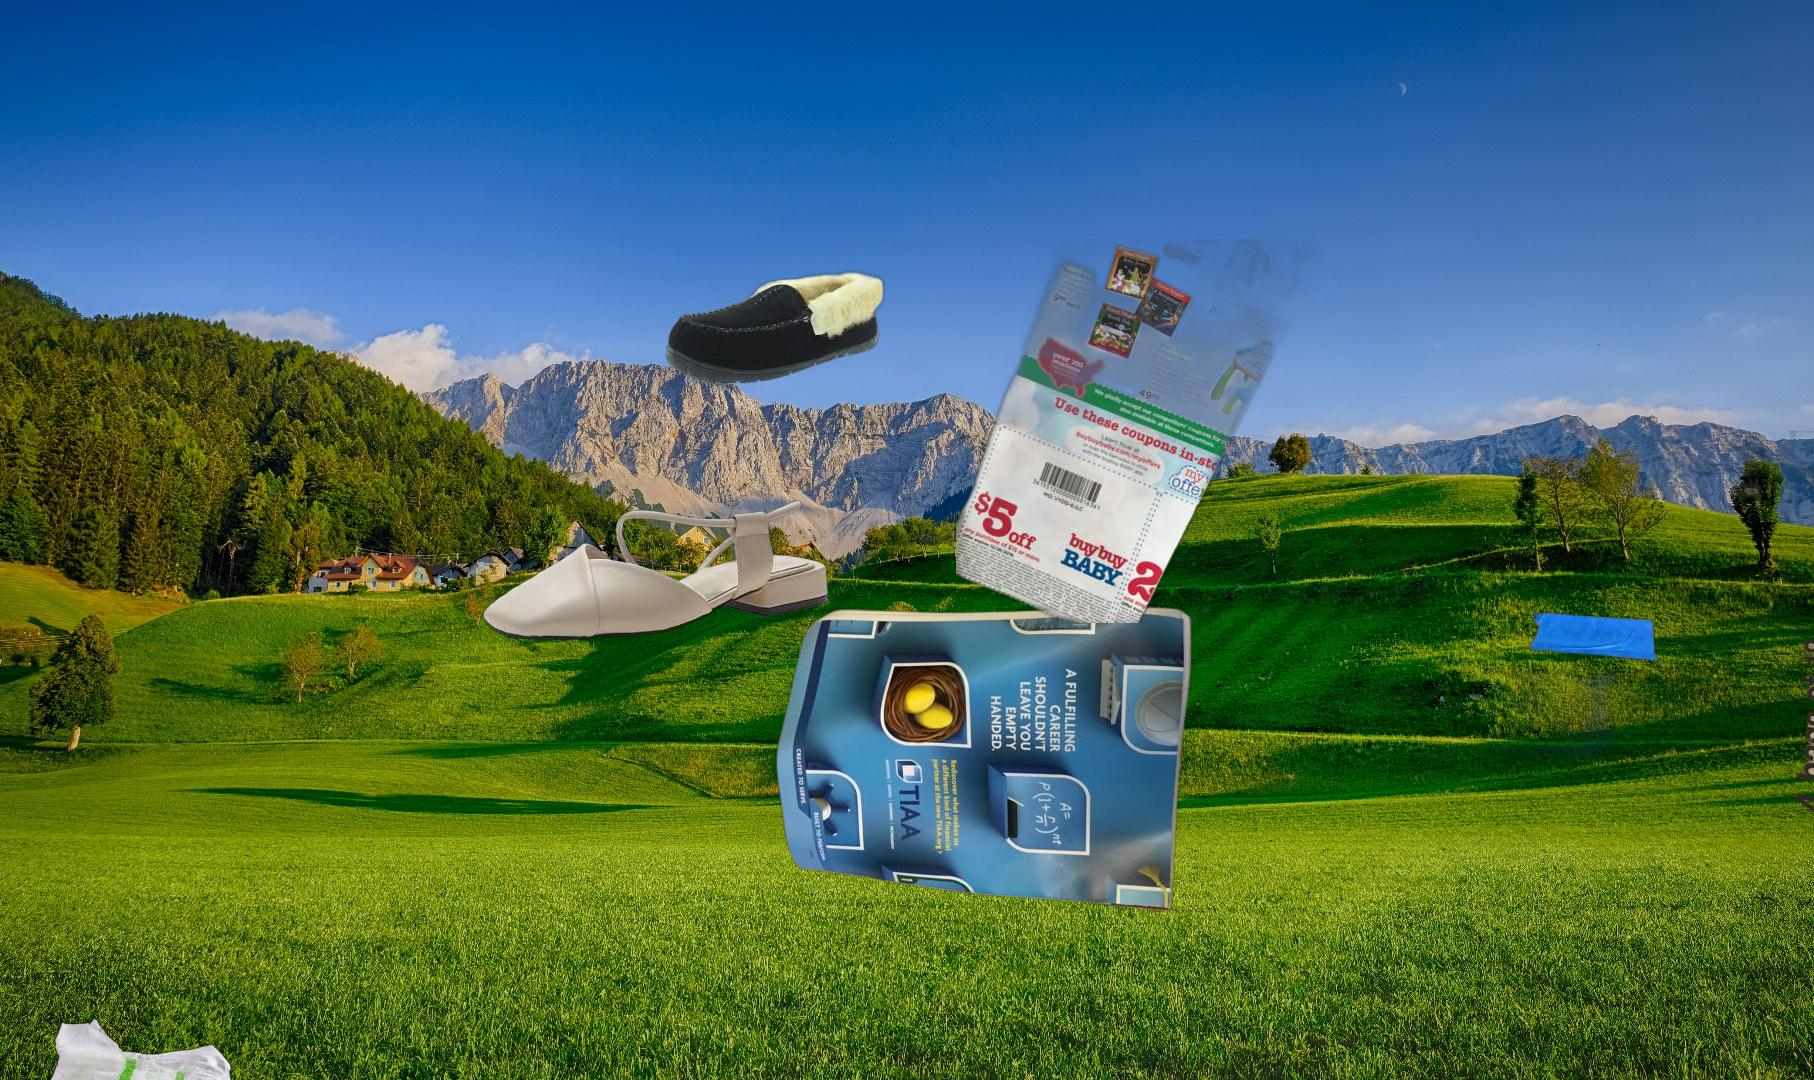paper: (956, 239, 1347, 624), (771, 603, 1196, 913)
shoes: (481, 499, 831, 643), (663, 216, 887, 386)
trash: (17, 1016, 237, 1080)
trashbox-cardboard: (1486, 431, 1814, 815)
